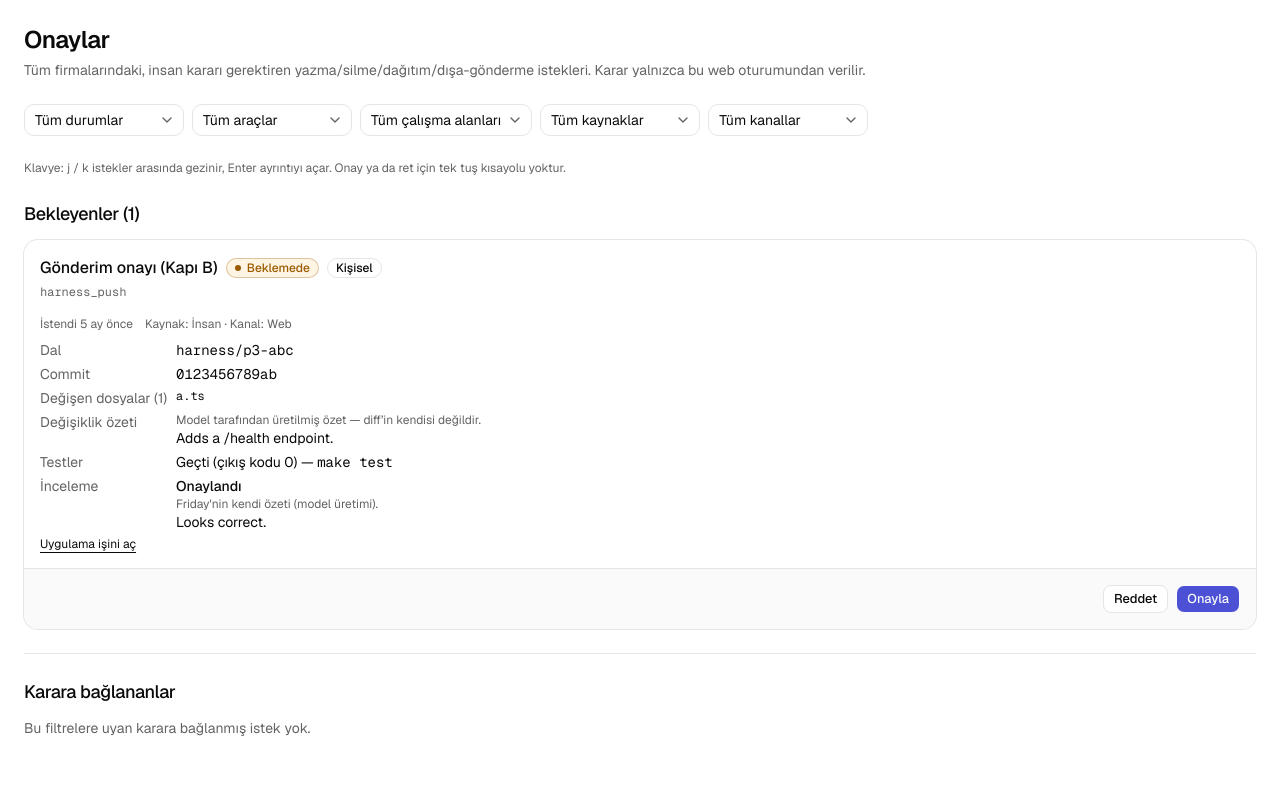
Test: ApprovalInbox › approves only through the decision dialog, which states the consequence
Expected: the element with test id "approval-r1" is shown, [24,240,1256,629]
Click the button "Onayla" at [1208, 599], box [1176,585,1240,613]
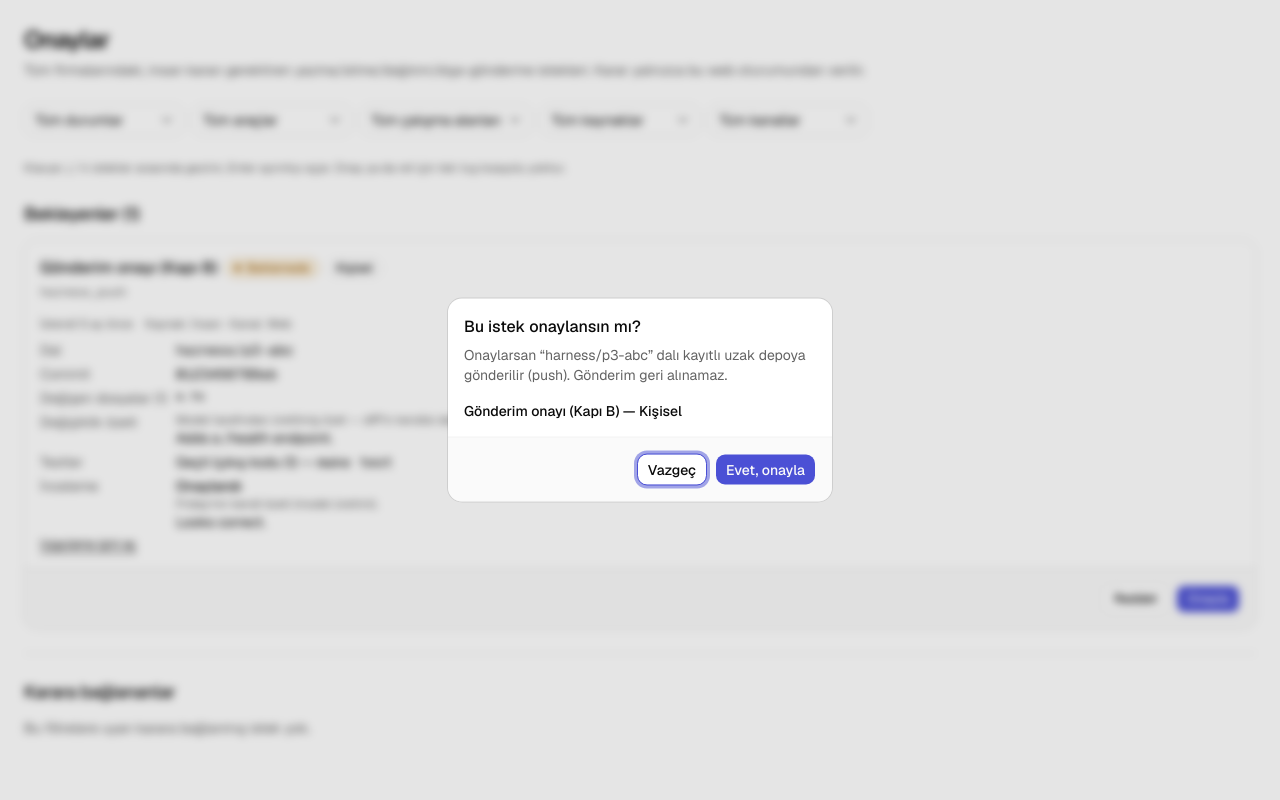
Expected: the dialog shows "“harness/p3-abc” dalı kayıtlı uzak depoya gönderilir", [464,346,805,384]
Expected: the dialog shows "Gönderim onayı (Kapı B) — Kişisel", [464,402,682,420]
Click the button "Vazgeç" at [672, 470], box [637,454,707,486]
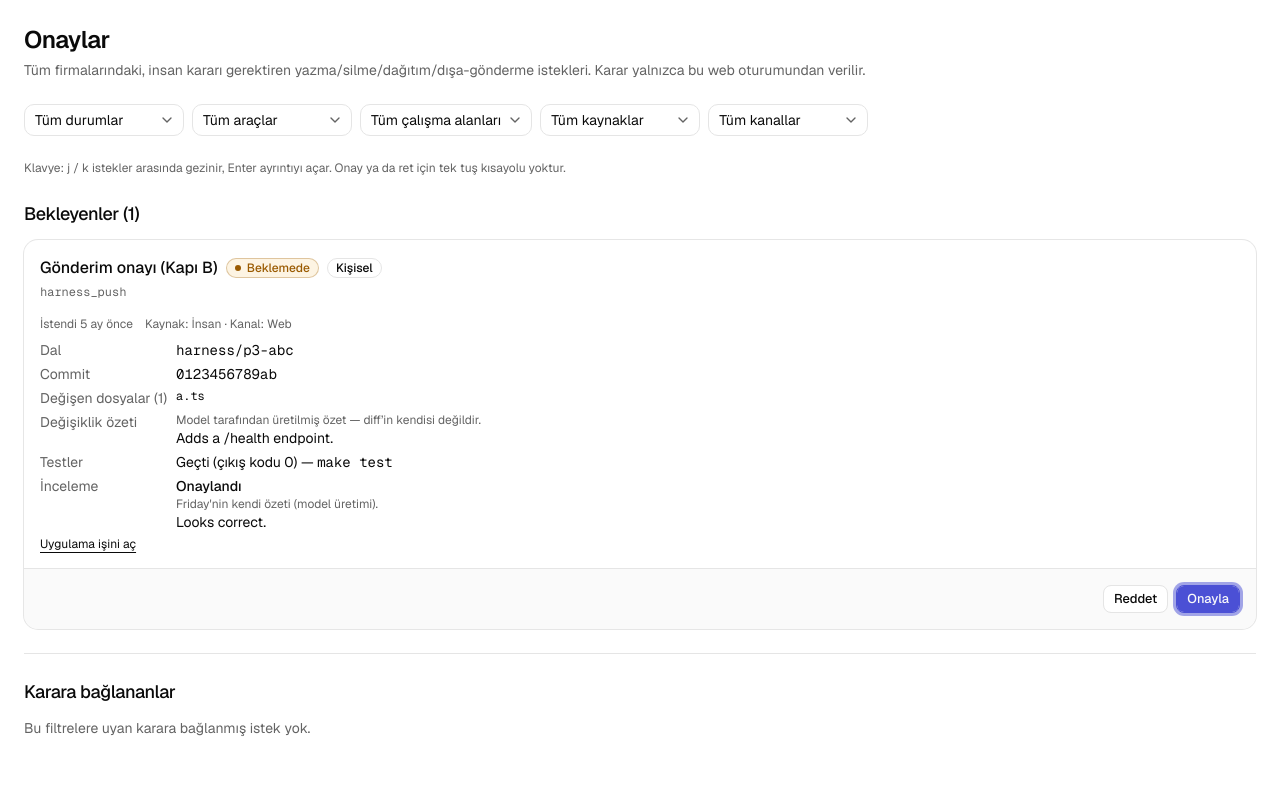
Expected: the dialog is gone
Click the button "Onayla" at [1208, 599], box [1176,585,1240,613]
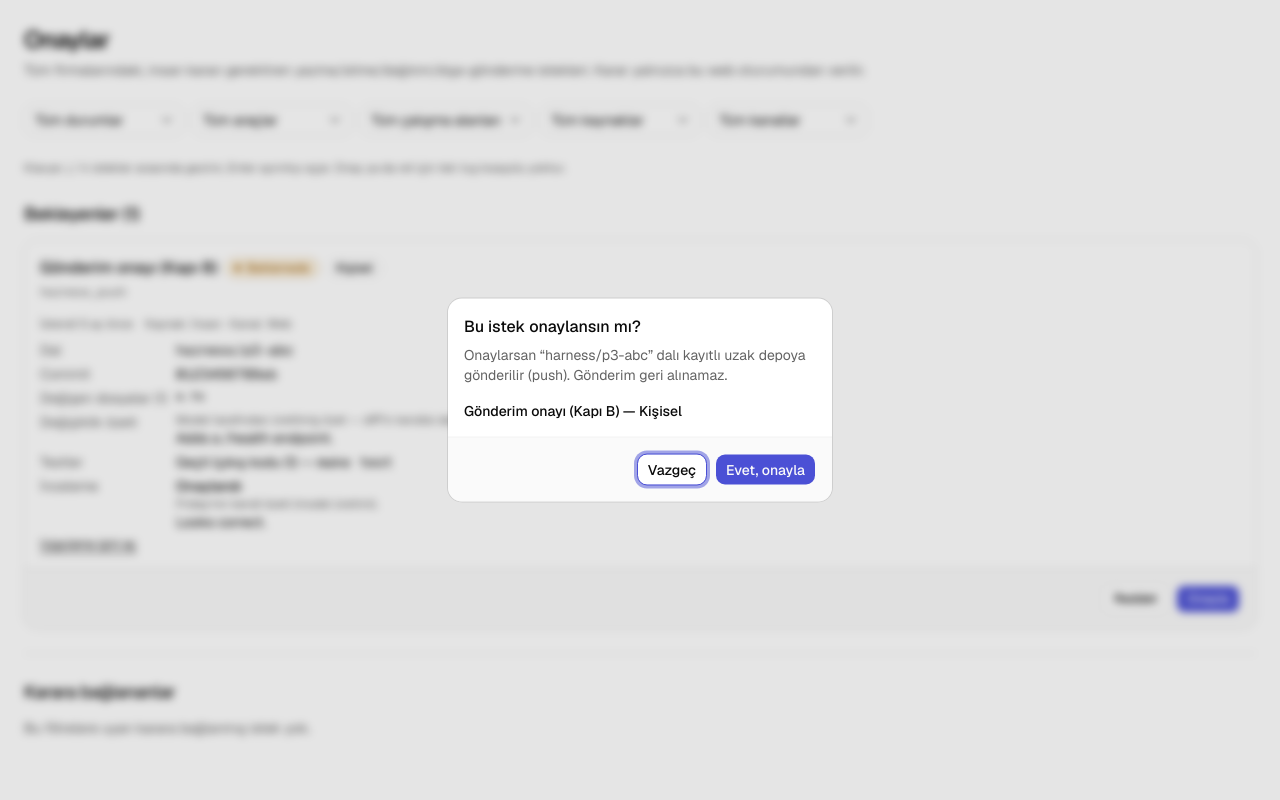
Click the button "Evet, onayla" at [766, 470], box [715,454,816,486]
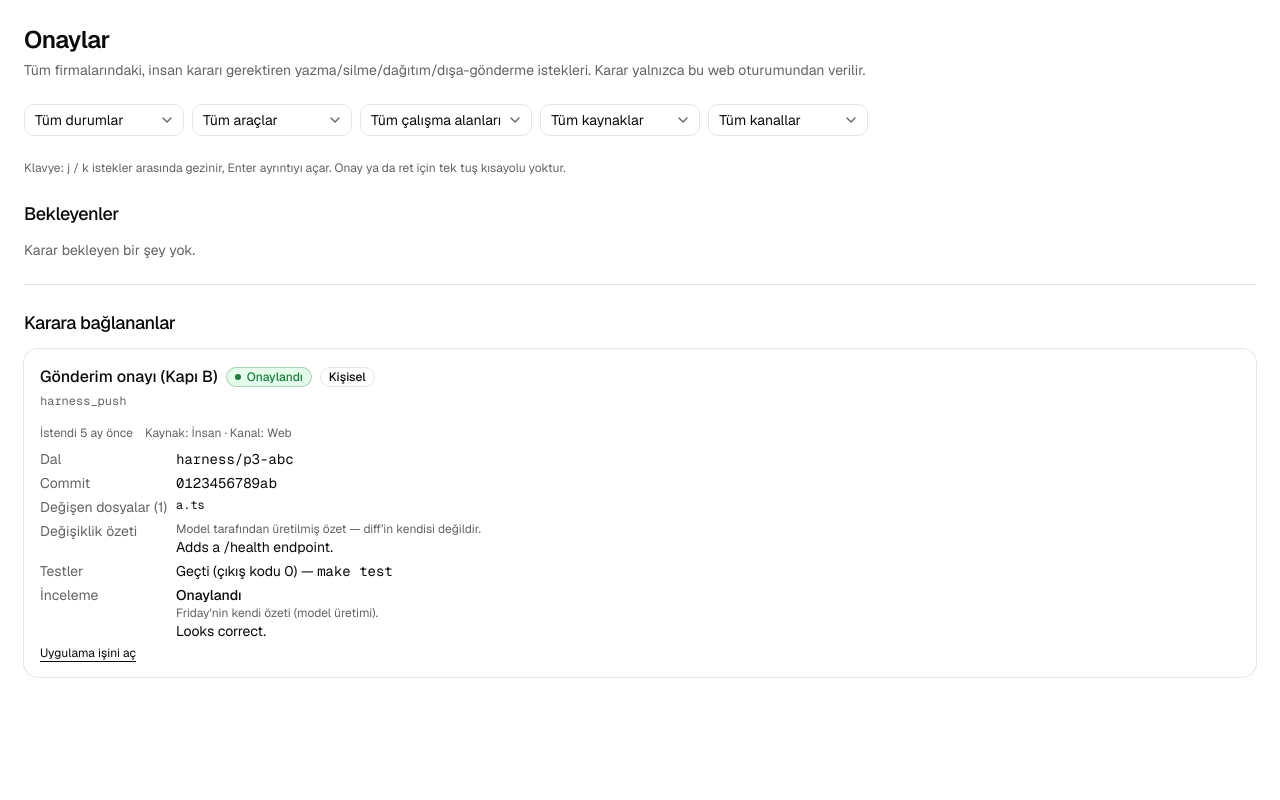
Expected: the text "Onaylandı" is shown, [226,367,312,387]
